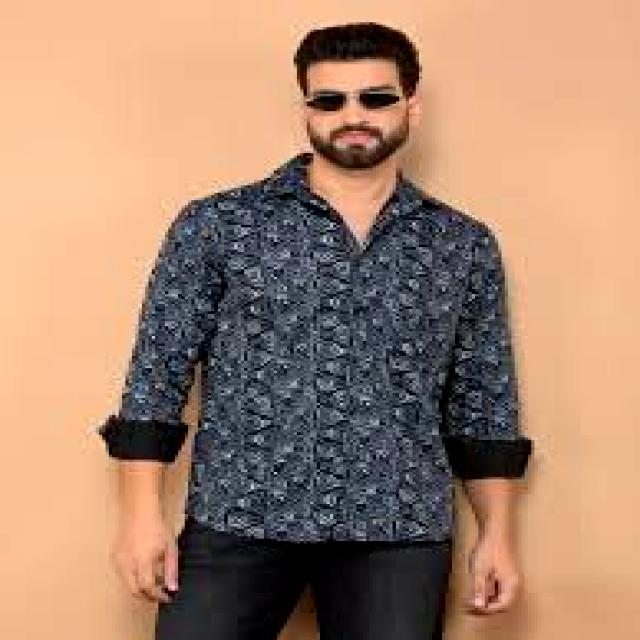face: (299, 20, 422, 166)
lower-wear: (156, 525, 449, 640)
top-wear: (115, 155, 532, 545)
